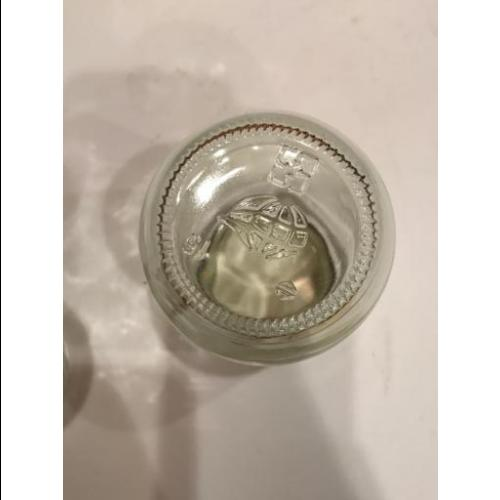glass: (140, 116, 388, 367)
